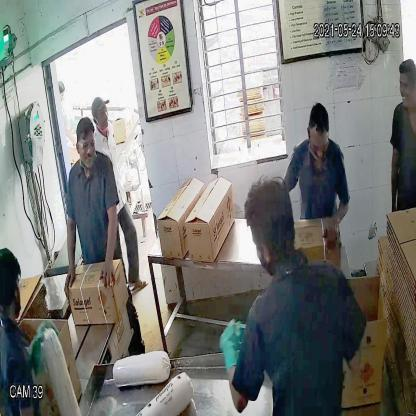goggles: (73, 136, 98, 154)
